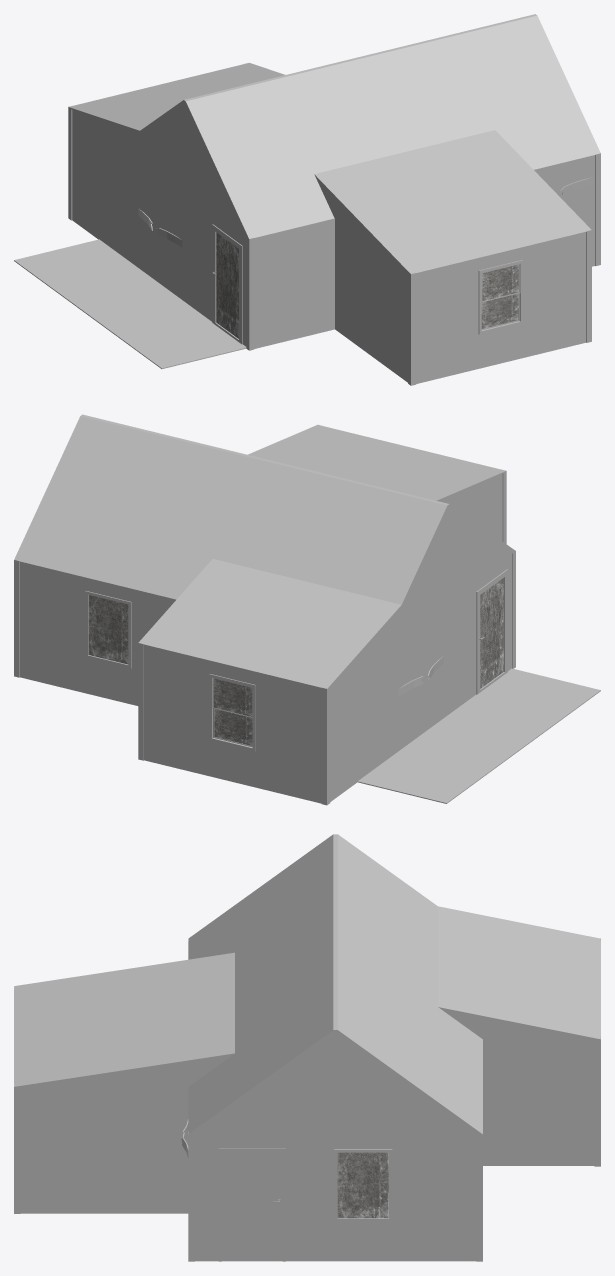
File: Suburbs_house4.fbx
3 renders of one model, top to bottom at view 1: azimuth 30°, elevation 25°; view 2: azimuth 150°, elevation 25°; view 3: azimuth 270°, elevation 25°, orthographic. The views are drawn at different scales.
Parts seen in each view (by area): view 1: Cube, SmallHouse1.023, Plane.004, Plane.519, Plane.522, Cube.012; view 2: Cube, SmallHouse1.023, Plane.517, Plane.004, Plane.526, Plane.523, Cube.012; view 3: Cube, SmallHouse1.023, Cube.004, Plane.056.
Part boxes in pixels (x1,y1,x2,y2): Cube: (69, 14, 600, 273); SmallHouse1.023: (14, 62, 600, 385); Plane.004: (216, 237, 238, 336); Plane.519: (482, 264, 518, 300); Plane.522: (481, 293, 518, 328); Cube.012: (212, 228, 240, 342); Cube: (14, 414, 515, 688); SmallHouse1.023: (14, 424, 600, 805); Plane.517: (88, 597, 128, 663); Plane.004: (480, 583, 503, 687); Plane.526: (213, 678, 252, 716); Plane.523: (214, 709, 252, 745); Cube.012: (478, 573, 506, 693); Cube: (14, 834, 600, 1134); SmallHouse1.023: (14, 938, 600, 1261); Cube.004: (222, 1151, 282, 1260); Plane.056: (337, 1152, 388, 1218).
Bounding box in the file's own units: 1025 × 454 × 1044.
